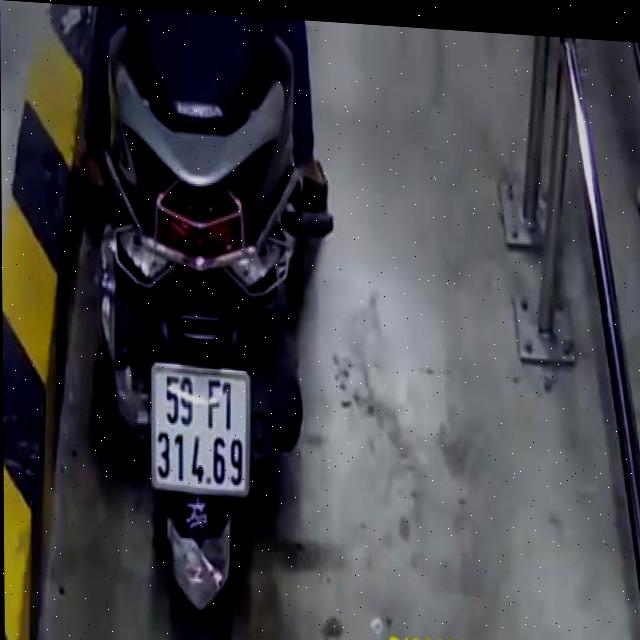motorcycle: (94, 18, 315, 637)
plate: (146, 359, 253, 499)
